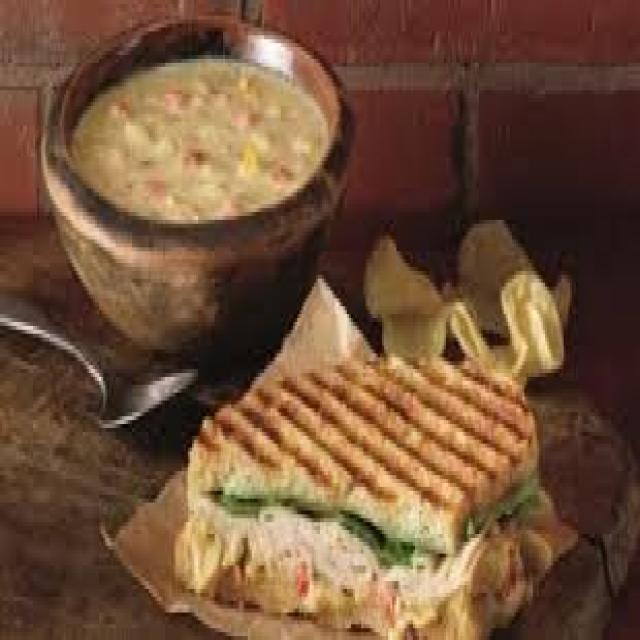Sandwich: (190, 334, 561, 624)
